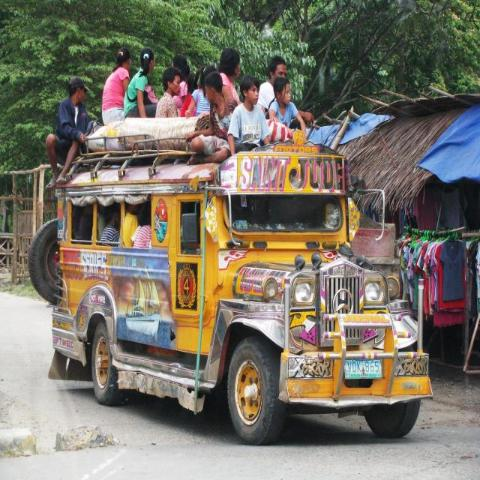jeepney: (37, 128, 451, 480)
